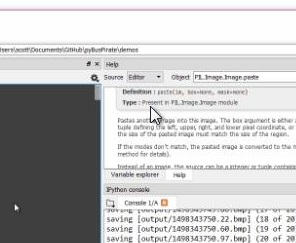cursor: (148, 104, 163, 125)
